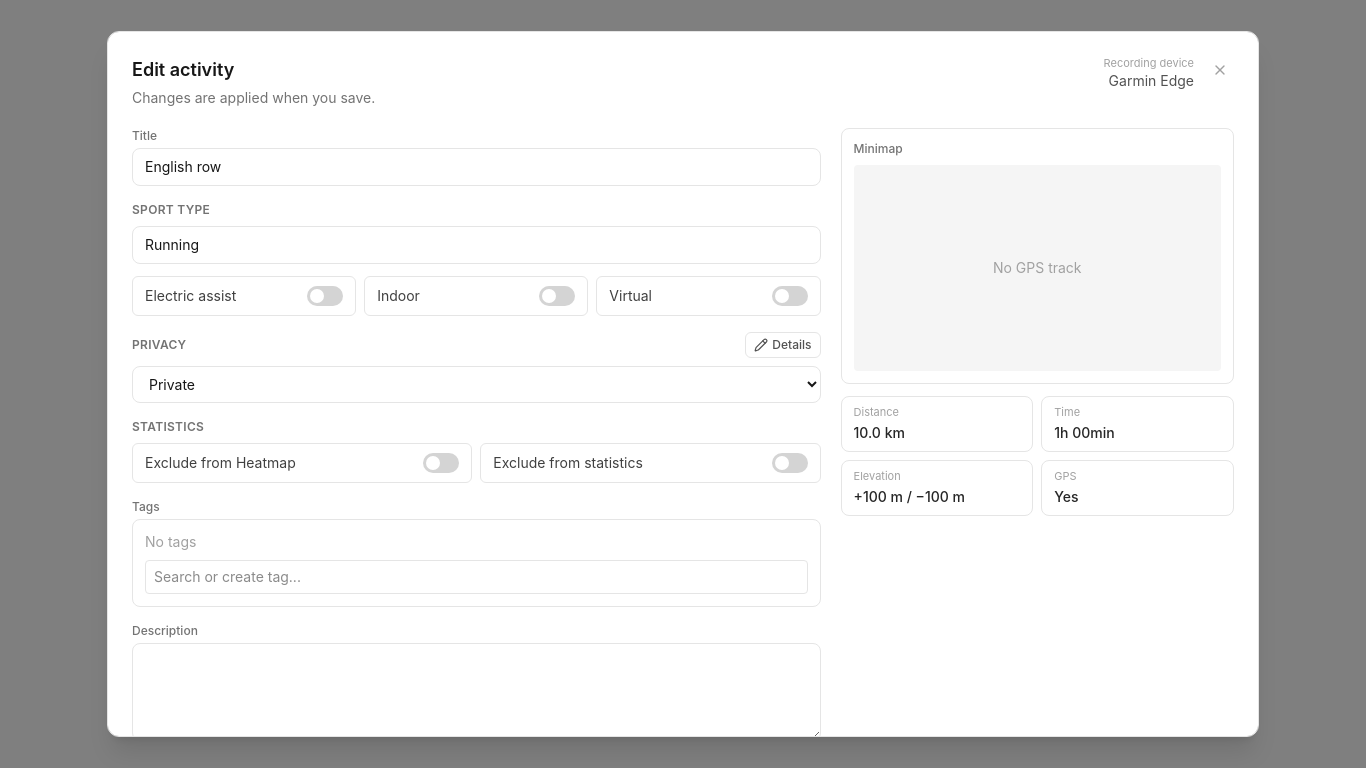
Test case: ActivityQuickEditModal › localizes visible form labels and actions in English
Expected: the heading "Edit activity" is shown, left=132, top=59, right=234, bottom=80
Expected: the text "Changes are applied when you save." is shown, left=132, top=88, right=375, bottom=108
Click the button "Details" at (783, 345), box left=745, top=332, right=820, bottom=358
(page scrolled)
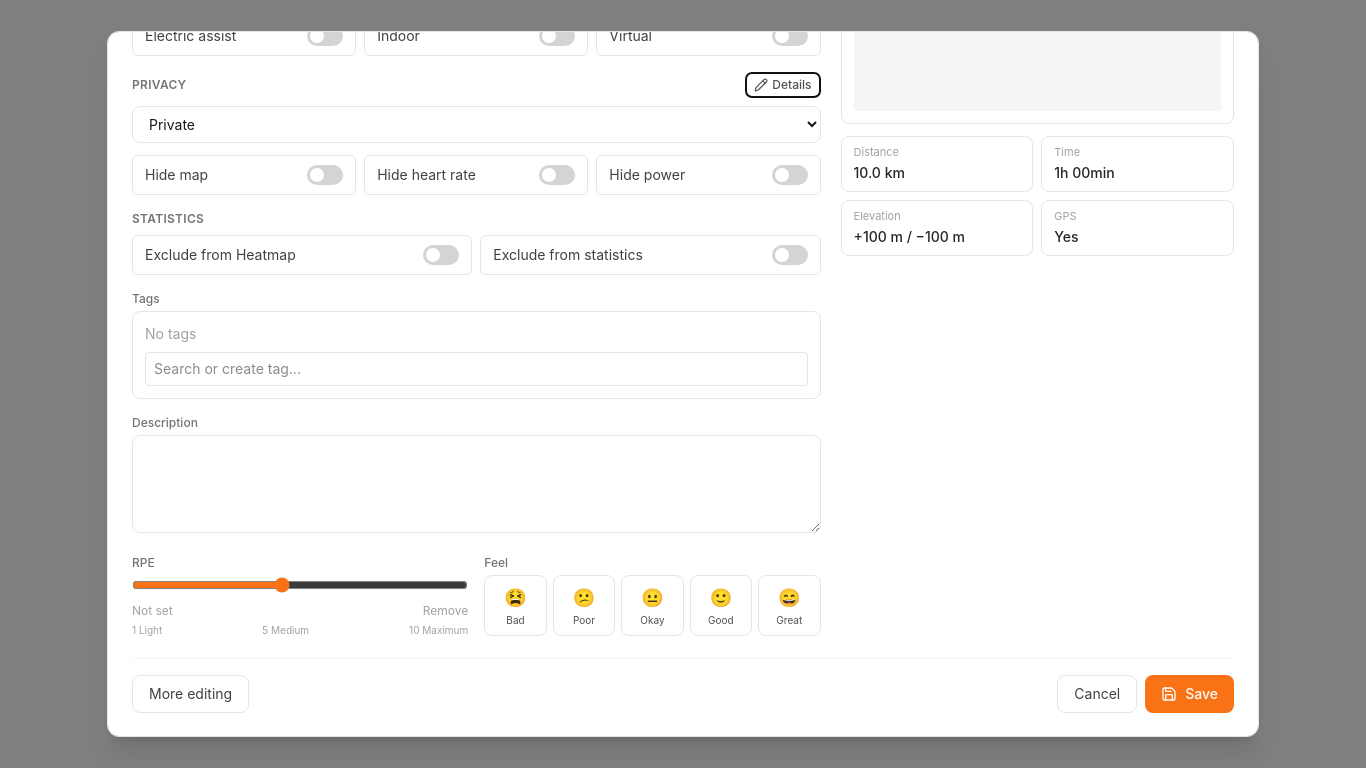
Now the switch named "Hide map" is shown, box left=307, top=165, right=343, bottom=185
Now the button "More editing" is shown, box left=132, top=675, right=249, bottom=713
Now the button "Cancel" is shown, box left=1057, top=675, right=1137, bottom=713
